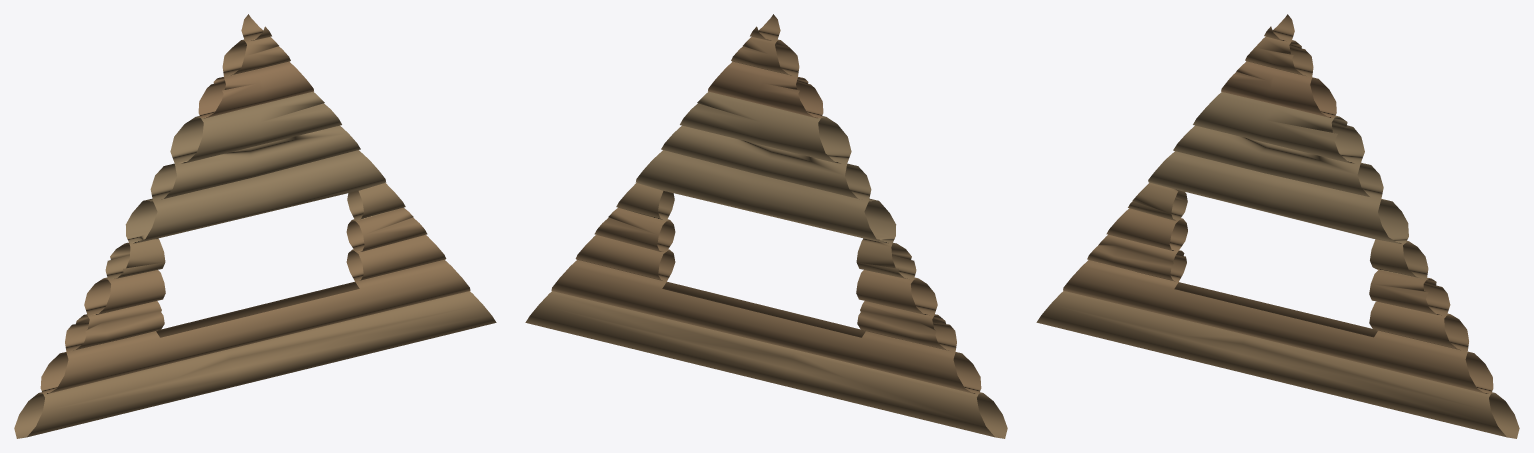
File: rpgpp_ag_roof_end_01_6x5_wall_window_01b.fbx
The picture shows the model from 3 angles, left to right: view 1: azimuth 30°, elevation 25°; view 2: azimuth 150°, elevation 25°; view 3: azimuth 330°, elevation 25°; orthographic projection.
Visible parts, largest first — view 1: rpgpp_ag_roof_end_01_6x5_wall_window_01b; view 2: rpgpp_ag_roof_end_01_6x5_wall_window_01b; view 3: rpgpp_ag_roof_end_01_6x5_wall_window_01b.
Part boxes in pixels (<box>): rpgpp_ag_roof_end_01_6x5_wall_window_01b: <box>14,14,496,438</box>; rpgpp_ag_roof_end_01_6x5_wall_window_01b: <box>525,14,1007,438</box>; rpgpp_ag_roof_end_01_6x5_wall_window_01b: <box>1036,14,1519,438</box>.
Bounding box in the file's own units: 6.32 × 4.56 × 0.5143.
